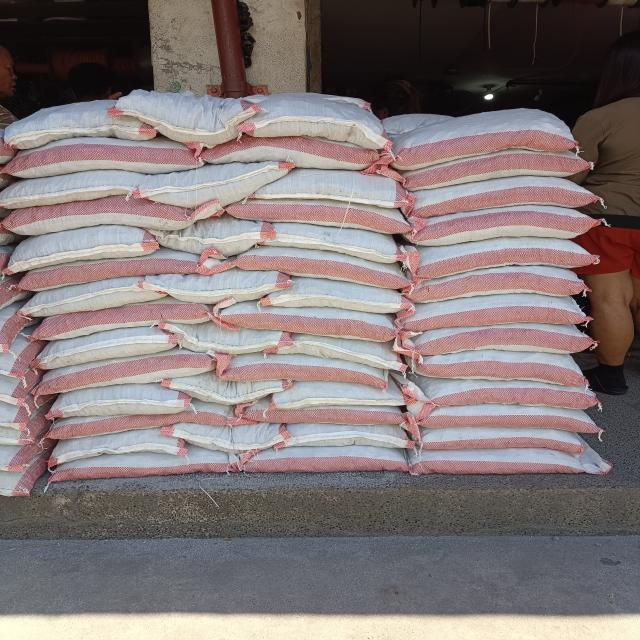Gravel: (115, 94, 270, 139), (399, 297, 567, 333), (391, 120, 582, 149), (419, 380, 602, 409), (206, 137, 382, 167), (14, 140, 190, 170), (419, 405, 601, 434), (415, 209, 590, 237), (239, 199, 414, 227), (14, 199, 189, 227), (420, 180, 595, 207), (412, 428, 608, 452), (229, 304, 385, 334), (416, 449, 611, 472), (422, 242, 587, 269), (418, 268, 583, 295), (411, 154, 587, 179), (14, 230, 159, 260), (7, 173, 151, 203), (273, 228, 396, 262), (271, 169, 397, 202), (41, 302, 200, 328), (418, 327, 582, 352), (146, 166, 272, 198), (150, 272, 287, 301), (434, 269, 571, 298), (27, 283, 163, 312), (236, 449, 406, 472), (61, 452, 230, 475), (417, 355, 584, 378), (225, 358, 392, 381), (40, 361, 207, 384), (274, 285, 410, 313), (48, 389, 192, 414), (28, 260, 219, 278), (6, 106, 133, 133), (253, 104, 380, 131), (57, 409, 234, 428), (233, 408, 410, 427), (235, 256, 418, 274), (280, 341, 402, 368), (163, 223, 269, 252), (41, 335, 167, 359), (177, 376, 301, 399), (273, 382, 397, 405), (52, 434, 179, 452), (288, 430, 415, 448), (170, 427, 296, 445), (184, 331, 283, 352), (1, 468, 53, 495), (1, 441, 53, 468), (1, 419, 53, 446), (1, 341, 43, 373), (1, 313, 31, 349), (1, 394, 32, 421), (1, 374, 32, 401), (1, 279, 23, 308), (1, 223, 23, 252), (1, 242, 23, 270)
